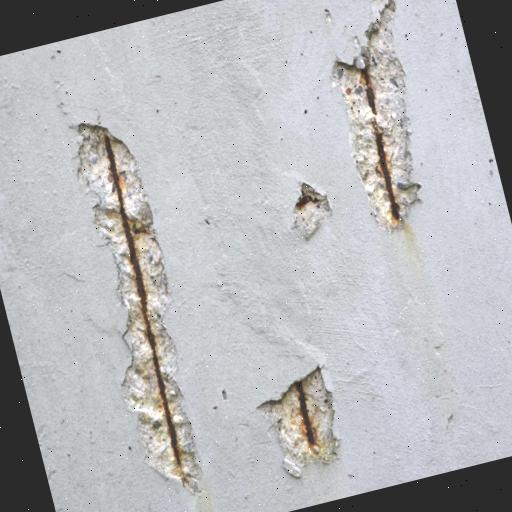spalling: (72, 124, 208, 496), (331, 1, 424, 233), (261, 361, 343, 467), (293, 176, 337, 236)
